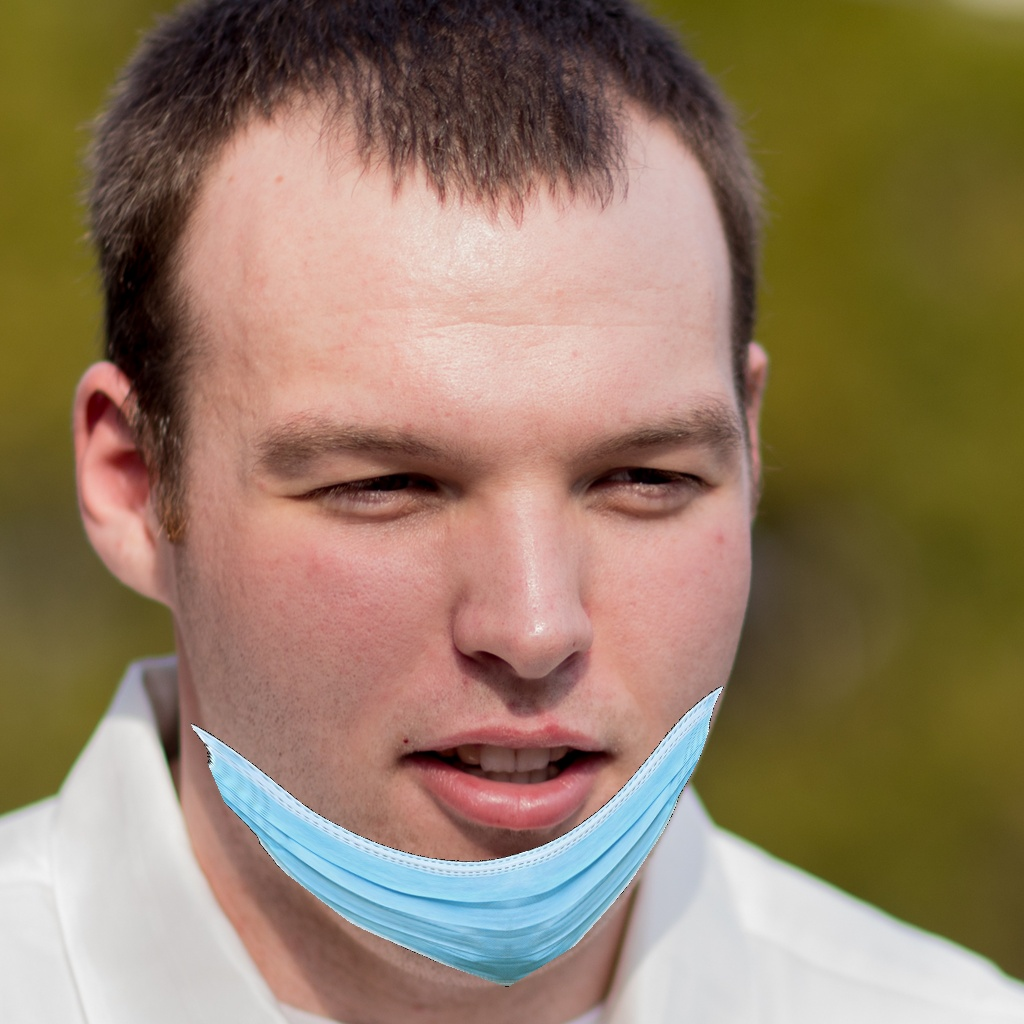mascarilla_mal_puesta: (254, 338, 752, 1024)
